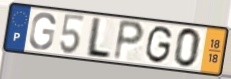0: (172, 27, 205, 69)
5: (58, 13, 87, 57)
G: (144, 25, 174, 66), (27, 11, 57, 51)
L: (83, 16, 113, 61)
P: (111, 18, 147, 63)
